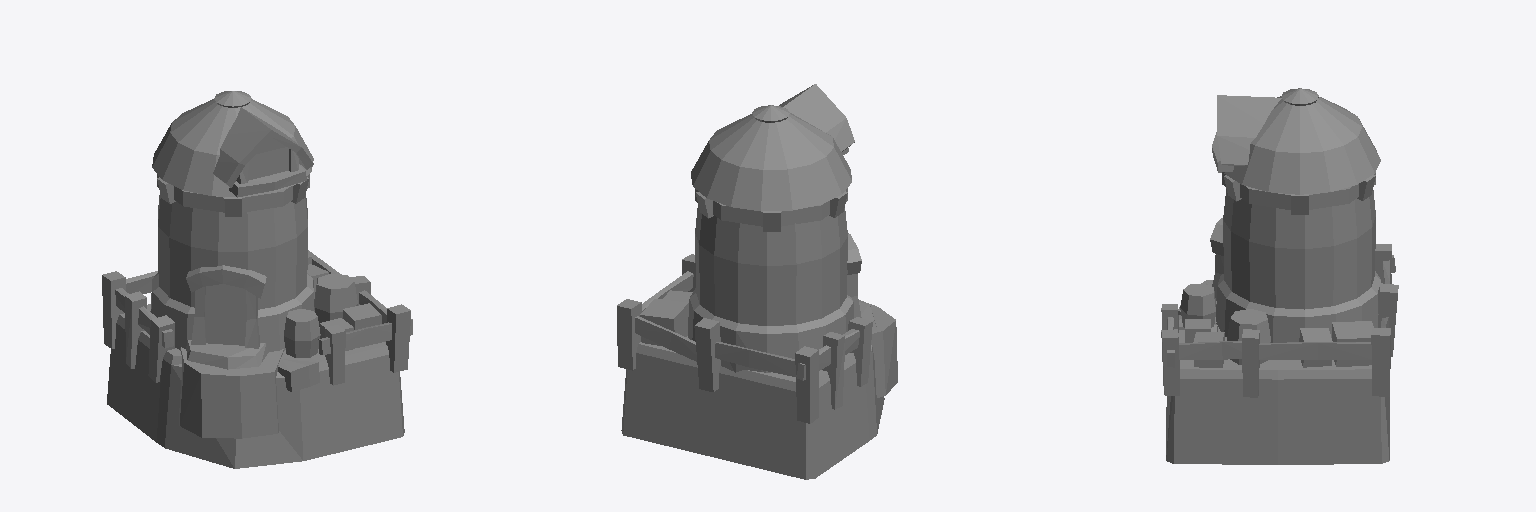
The model's file is windmillBuilding.obj.
The picture shows the model from 3 angles: view 1: azimuth 30°, elevation 25°; view 2: azimuth 150°, elevation 25°; view 3: azimuth 270°, elevation 25°; orthographic projection.
Visible parts, largest first — view 1: windmill_Mesh.001; view 2: windmill_Mesh.001; view 3: windmill_Mesh.001.
Part boxes in pixels (bbox=[...]): windmill_Mesh.001: bbox=[102, 91, 412, 468]; windmill_Mesh.001: bbox=[617, 84, 897, 479]; windmill_Mesh.001: bbox=[1161, 88, 1398, 464].
Bounding box in the file's own units: 4.25 × 6.49 × 4.33.